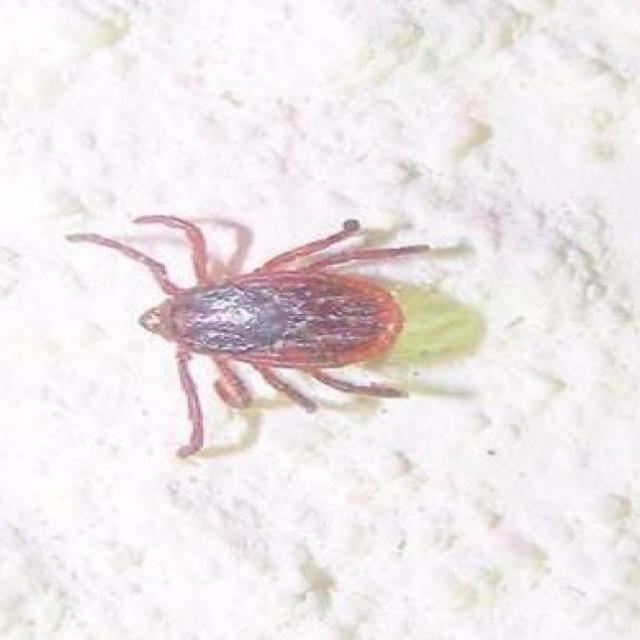Rhipicephalus Sanguineus-F: (65, 215, 432, 456)
